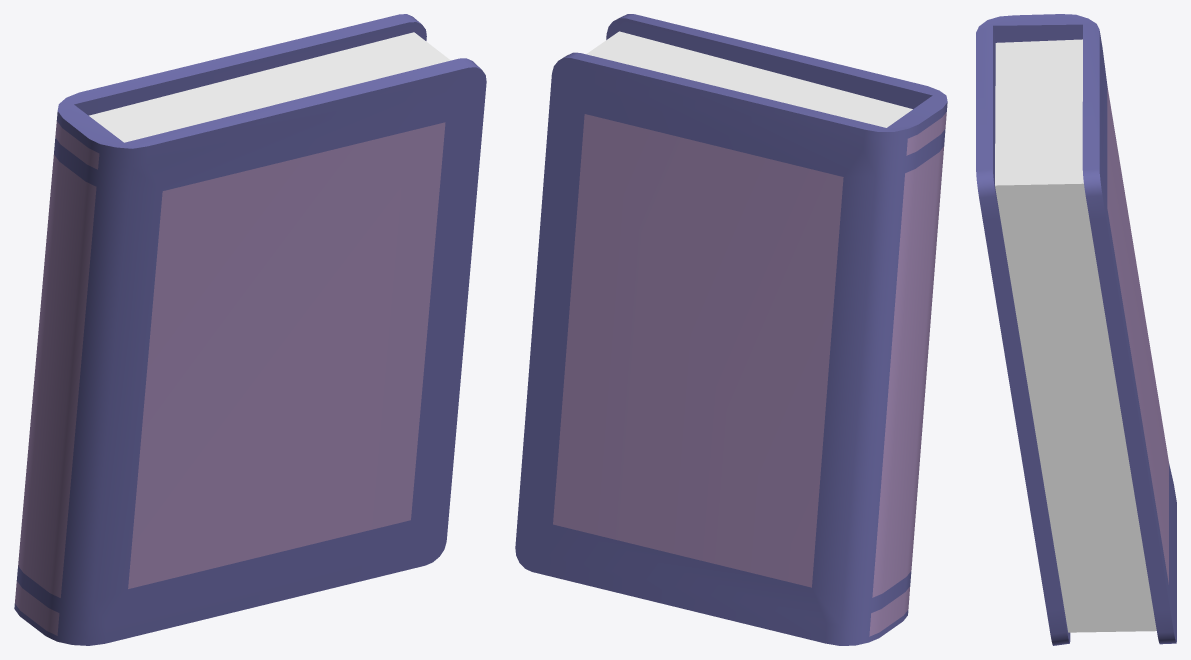
File: book_12.fbx
3 views of the same model, side by side, from view 1: azimuth 30°, elevation 25°; view 2: azimuth 150°, elevation 25°; view 3: azimuth 270°, elevation 25° (orthographic). The views are drawn at different scales.
Visible parts, largest first — view 1: book_12; view 2: book_12; view 3: book_12.
Boxes of the visible parts, left/top/right/bottom form: book_12: left=14, top=14, right=486, bottom=645; book_12: left=515, top=14, right=947, bottom=645; book_12: left=976, top=14, right=1176, bottom=645.
Bounding box in the file's own units: 0.2761 × 0.372 × 0.1424.
